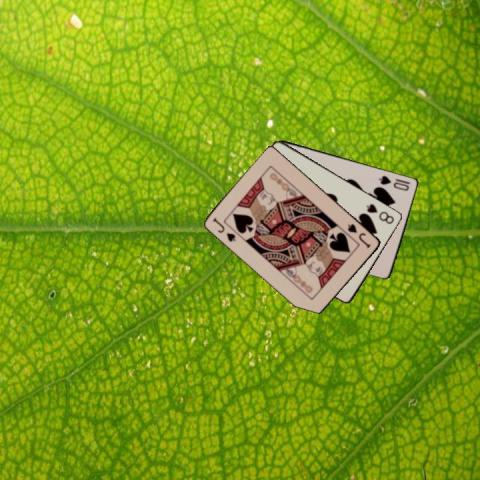10s: (376, 173, 410, 192)
8s: (363, 201, 396, 225)
Js: (344, 221, 372, 250), (210, 215, 237, 243)
